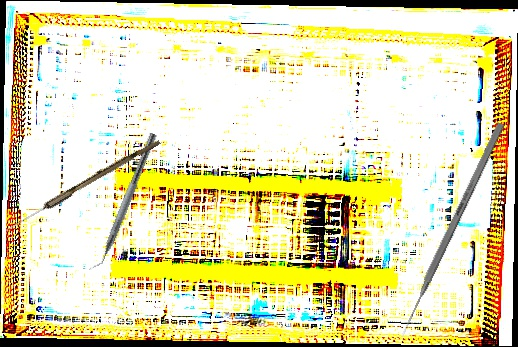Chopper: (86, 128, 158, 276)
Pusher: (397, 121, 505, 340)
Surgical Spoon: (4, 136, 161, 235)
